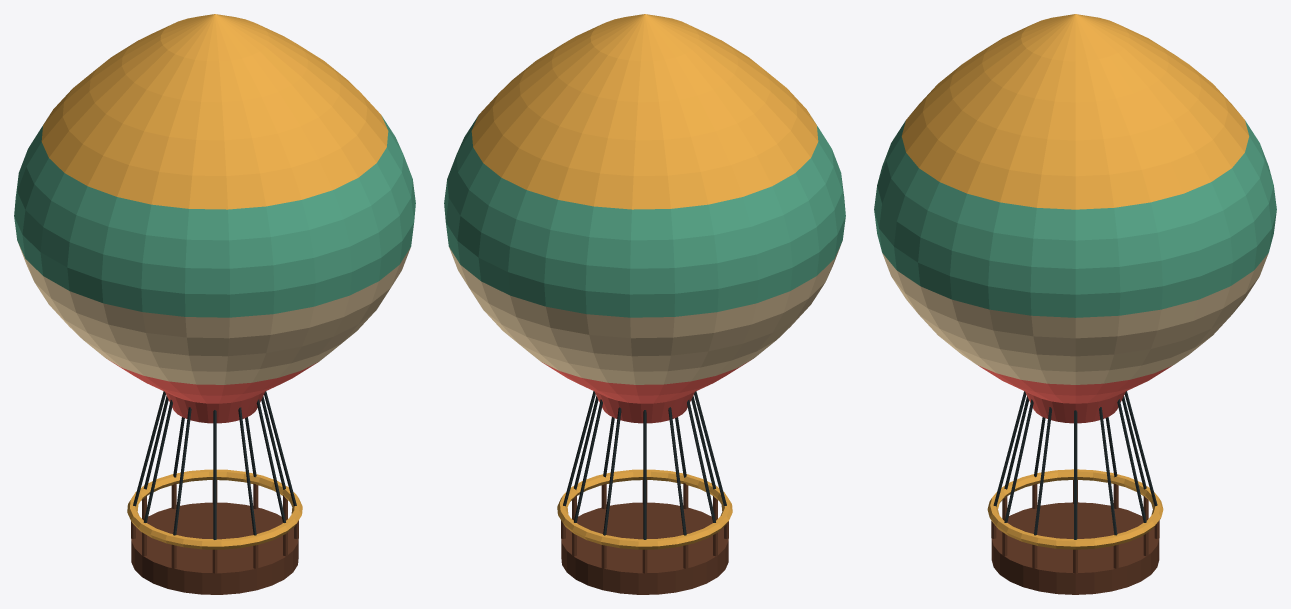
The model's file is ParkParkBalloonBalloon.obj.
The picture shows the model from 3 angles, left to right: view 1: azimuth 30°, elevation 25°; view 2: azimuth 150°, elevation 25°; view 3: azimuth 270°, elevation 25°; orthographic projection.
Parts seen in each view (by area): view 1: ParkParkBalloonBalloon; view 2: ParkParkBalloonBalloon; view 3: ParkParkBalloonBalloon.
Part boxes in pixels (x1,y1,x2,y2): ParkParkBalloonBalloon: (14, 14, 415, 594); ParkParkBalloonBalloon: (444, 14, 845, 594); ParkParkBalloonBalloon: (874, 14, 1276, 594).
Size of the model in its own units: 16.8 by 25.1 by 16.8.
